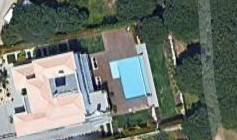pool: (112, 60, 147, 96)
